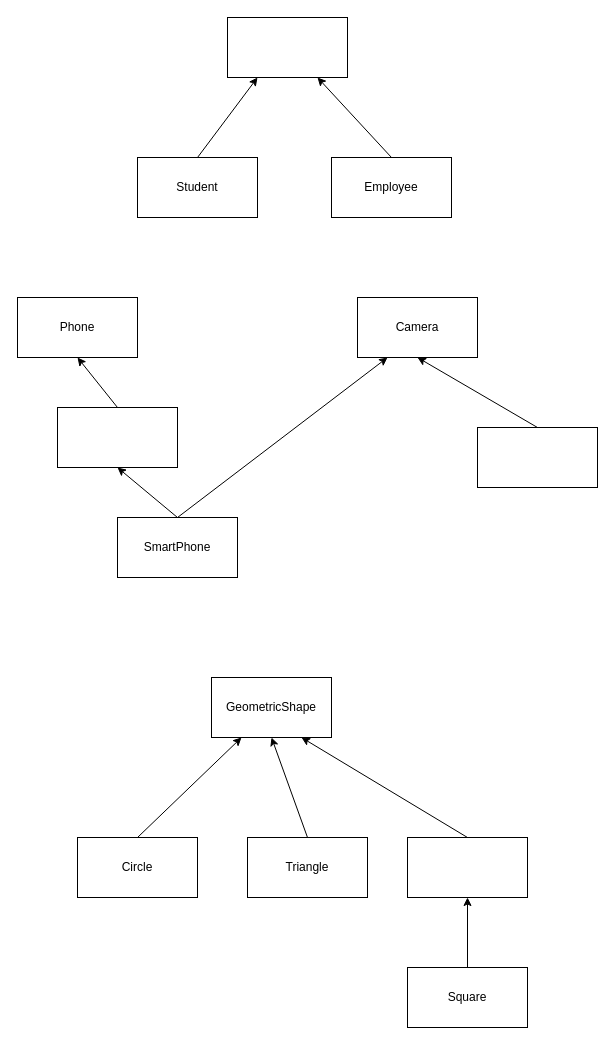
Some shapes in this 615 by 1045 pixel diagram are drawn without their labels. Each missing label, with the centre of its shape:
"DigitalCamera" goes at [537,457].
"MobilePhone" goes at [117,437].
"Person" goes at [287,47].
"Rectangle" goes at [467,867].
